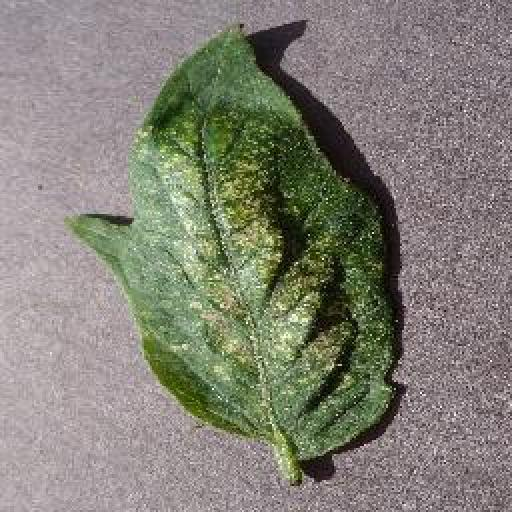Spider Mites: (71, 22, 401, 458)
